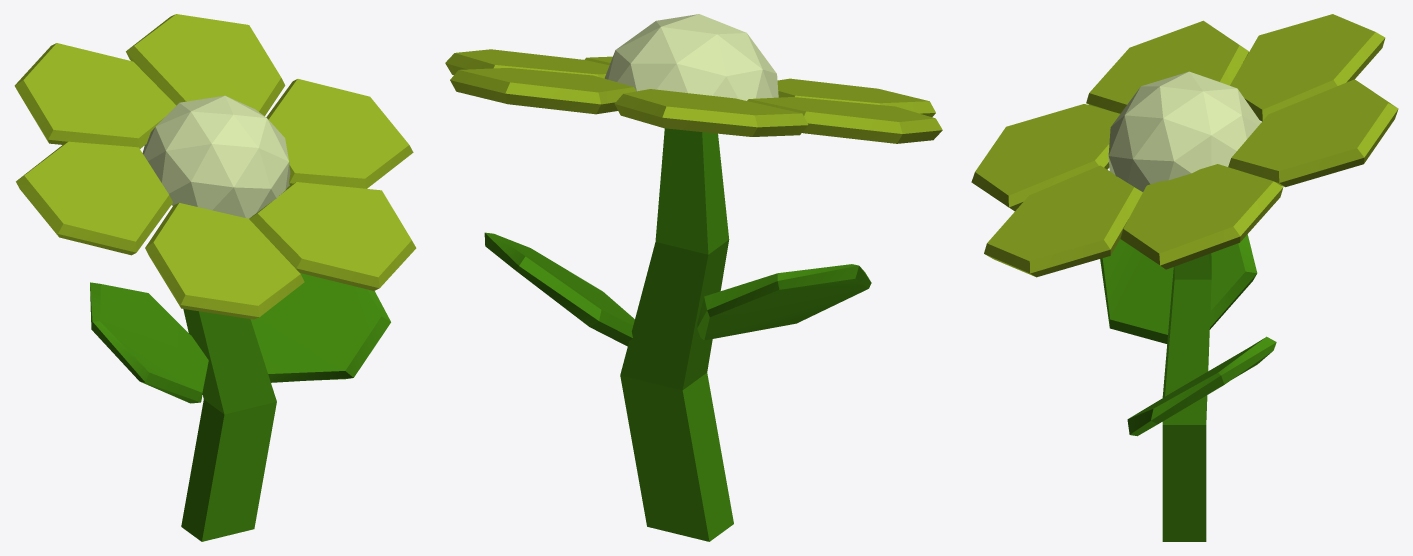
Rendered from Flower_b_01.fbx.
3 renders of one model, left to right at view 1: azimuth 30°, elevation 25°; view 2: azimuth 150°, elevation 25°; view 3: azimuth 270°, elevation 25°, orthographic. The views are drawn at different scales.
Visible parts, largest first — view 1: Flower_b_01_LOD0; view 2: Flower_b_01_LOD0; view 3: Flower_b_01_LOD0.
Part boxes in pixels (x1,y1,x2,y2): Flower_b_01_LOD0: [14, 14, 416, 541]; Flower_b_01_LOD0: [445, 14, 942, 541]; Flower_b_01_LOD0: [971, 14, 1398, 541].
Bounding box in the file's own units: 2.6 × 2.43 × 2.89.
